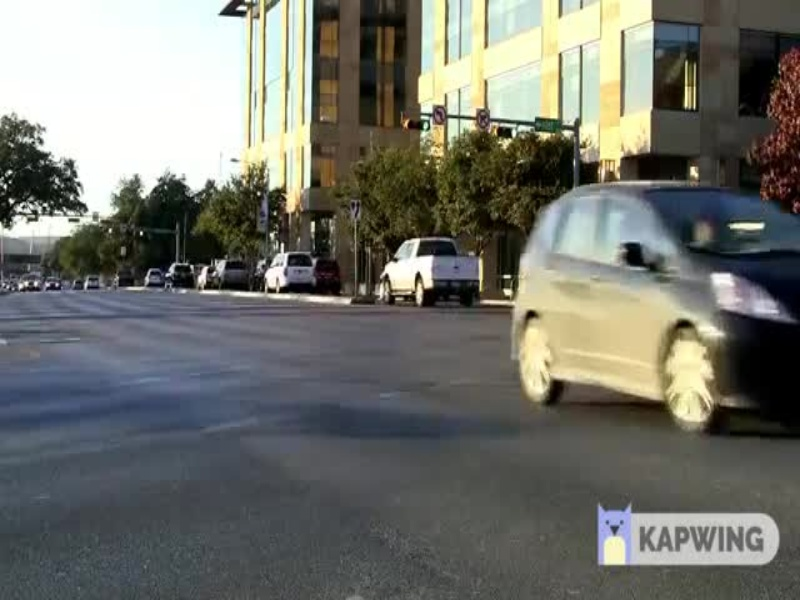car: (501, 159, 800, 437)
suv: (258, 245, 318, 298)
truck: (370, 242, 490, 306)
